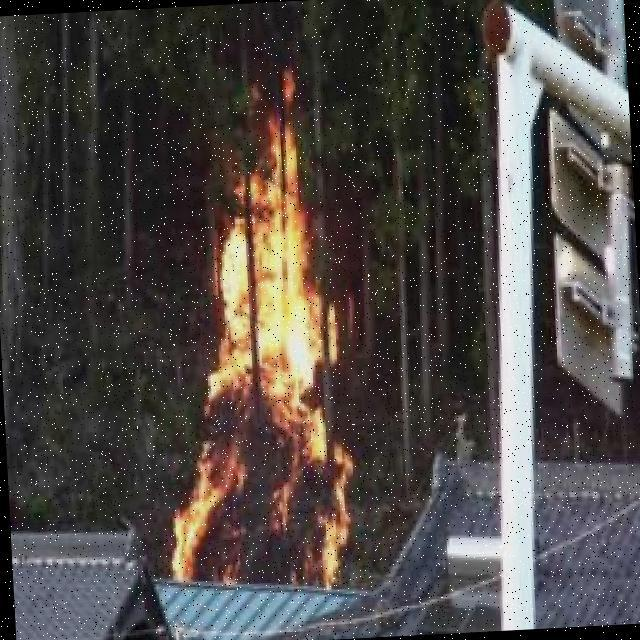Fire: (147, 87, 360, 597)
